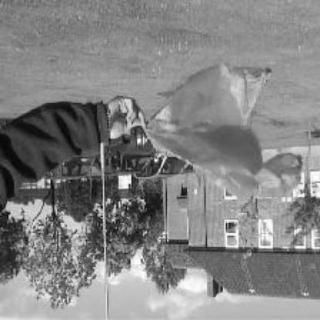other: (133, 66, 301, 210)
